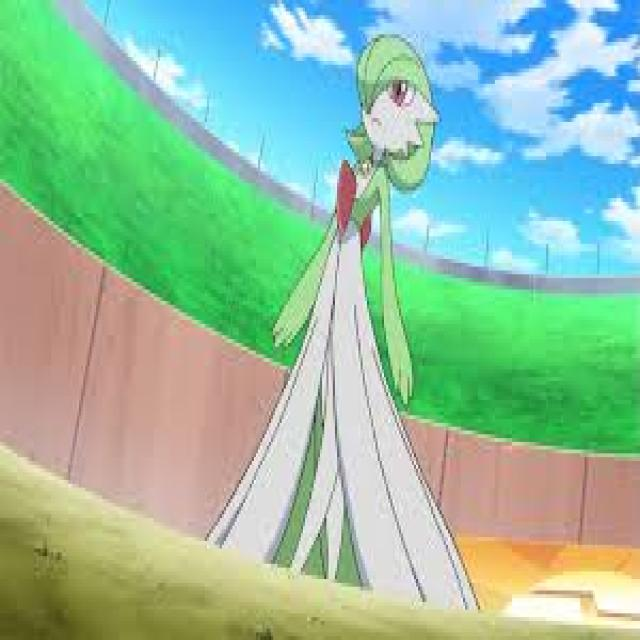gardevoir: (204, 31, 488, 617)
